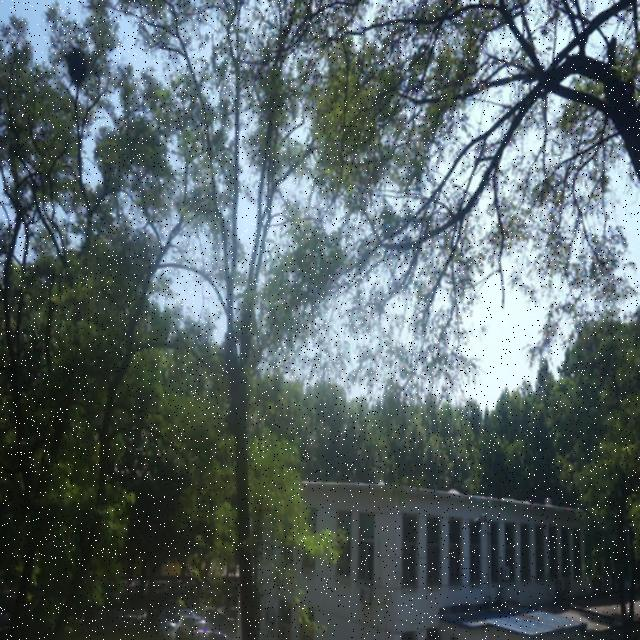UAV: (468, 514, 487, 530)
